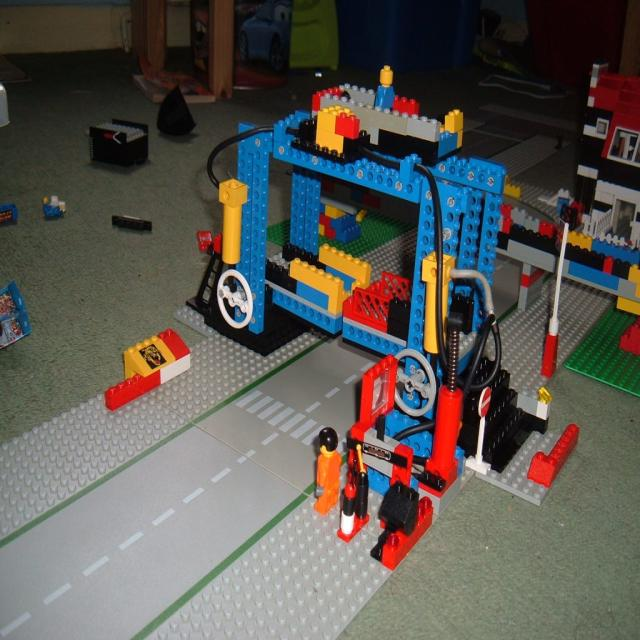Toy: (100, 57, 585, 568), (500, 55, 640, 406)
